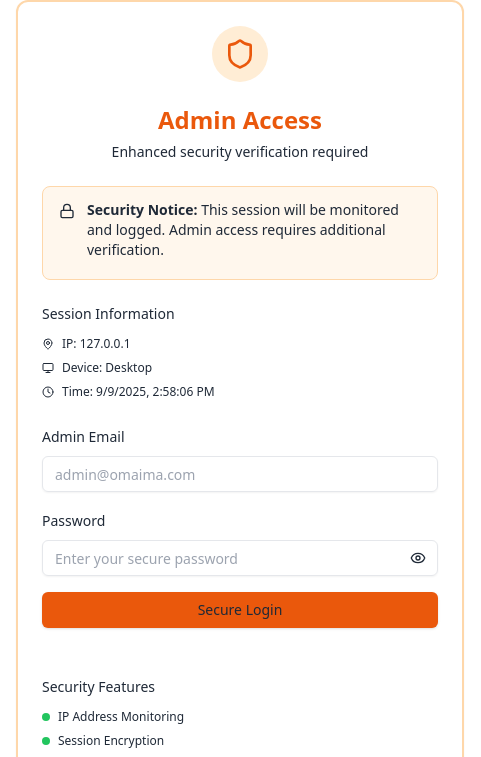
it: AdminLoginForm Component › should display validation errors for empty fields
Click the button "Secure Login" at [240, 610], box [42, 592, 438, 628]
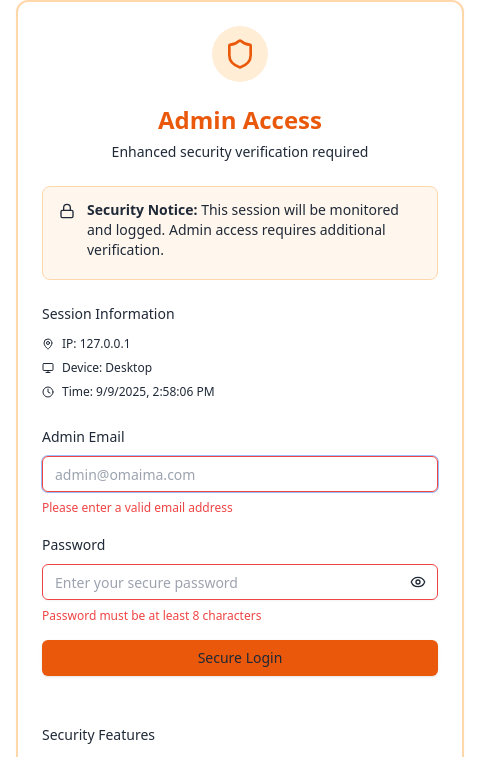
Expected: the text "Please enter a valid email address" is shown, [42, 499, 233, 516]
Expected: the text "Password must be at least 8 characters" is shown, [42, 607, 261, 624]
